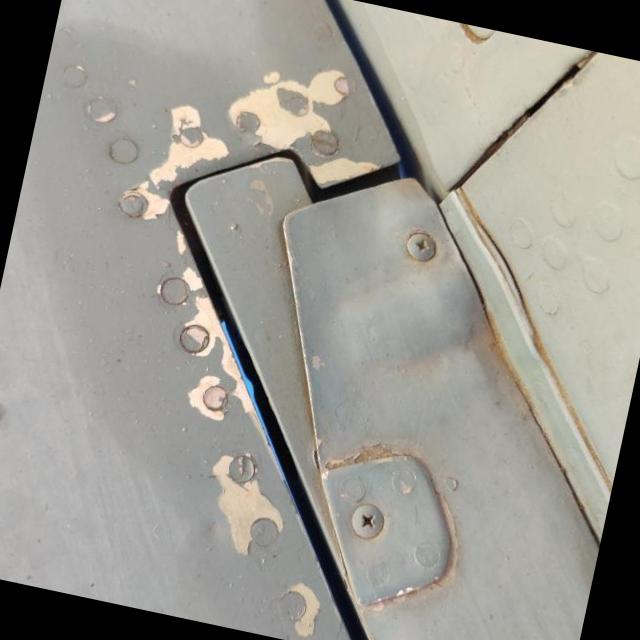Paint-off: (162, 245, 268, 432), (228, 68, 395, 180), (114, 105, 230, 224), (200, 453, 288, 568), (269, 579, 337, 640)
